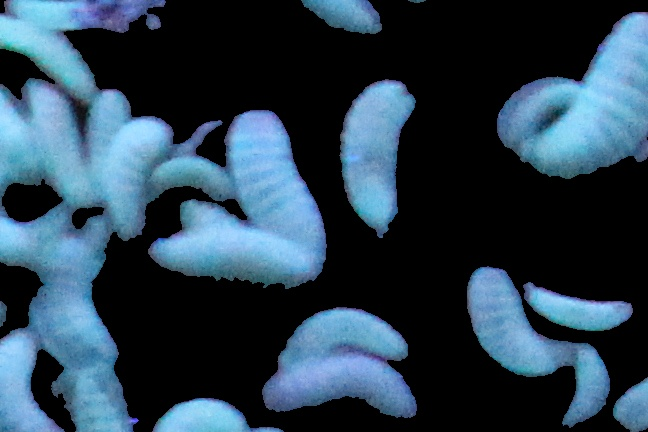larvae: (536, 11, 648, 180), (226, 107, 328, 256), (337, 83, 416, 236), (463, 266, 554, 376), (155, 222, 306, 282), (262, 365, 428, 419), (42, 236, 116, 353), (1, 18, 95, 93), (491, 73, 572, 152), (274, 313, 403, 362), (32, 83, 89, 191), (1, 329, 59, 432), (114, 117, 170, 222), (61, 361, 139, 432), (552, 347, 608, 429), (533, 285, 629, 332), (155, 387, 251, 432), (1, 192, 61, 260), (154, 154, 234, 200), (288, 1, 393, 34), (1, 94, 36, 180), (91, 90, 120, 179)
